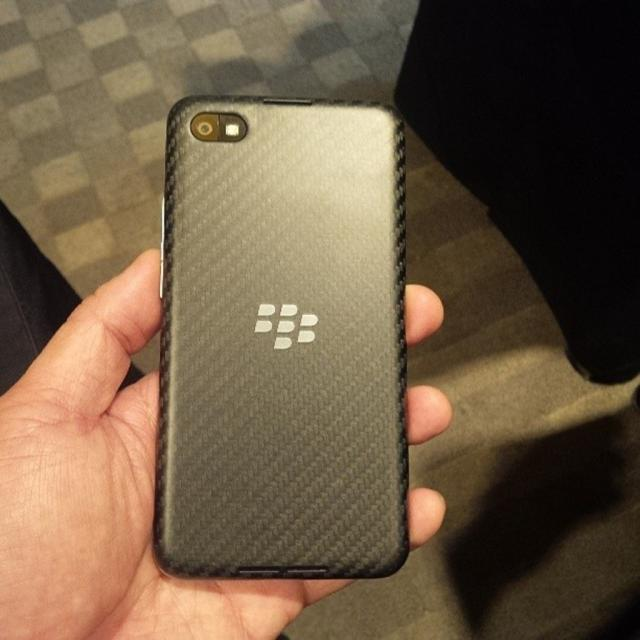Phone: (151, 94, 415, 580)
